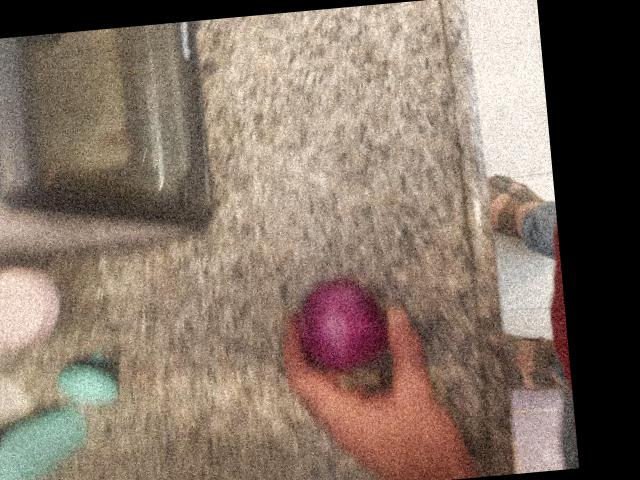onion: (169, 11, 290, 139)
